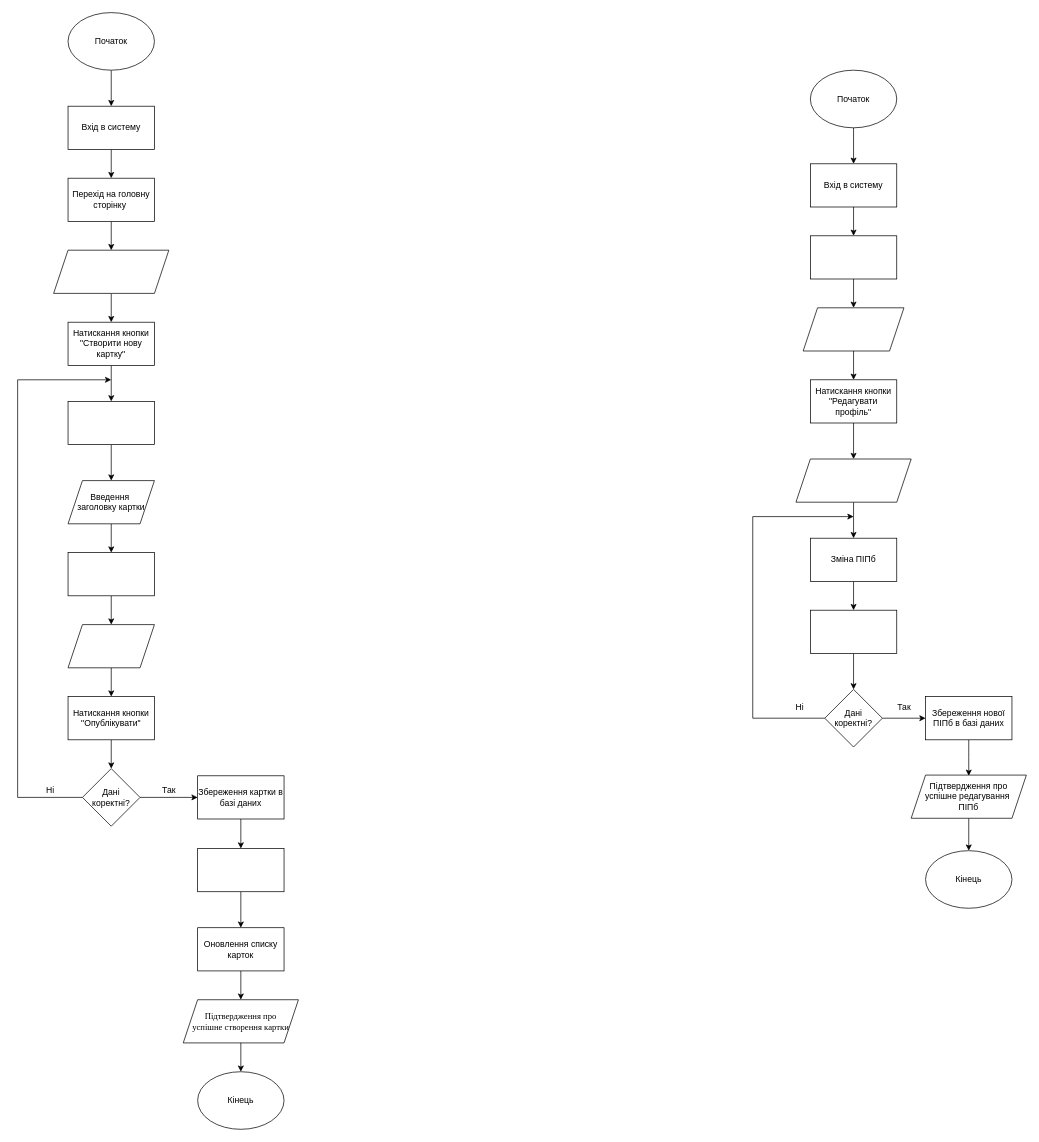
Some shapes in this 1039 by 1142 pixel diagram are drawn without their labels. The shapes that lost their labels are listed below. From the top down, each one's centre as x and y in pixels, then its label:
(x=111, y=271): Відображення списку карток
(x=853, y=257): Перехід до профілю
(x=853, y=329): Відображення даних профілю
(x=110, y=423): Відображення форми створення картки
(x=853, y=480): Відображення форми редагування профілю
(x=110, y=574): Вибір місця зниклого
(x=110, y=646): Введення тексту картки
(x=853, y=631): Натискання кнопки "Зберегти зміни"
(x=240, y=870): Відображення підтвердження створення
